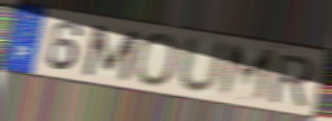6: (47, 20, 84, 73)
M: (215, 41, 279, 107), (80, 22, 142, 84)
O: (131, 31, 181, 89)
R: (266, 53, 317, 109)
U: (175, 33, 231, 98)
